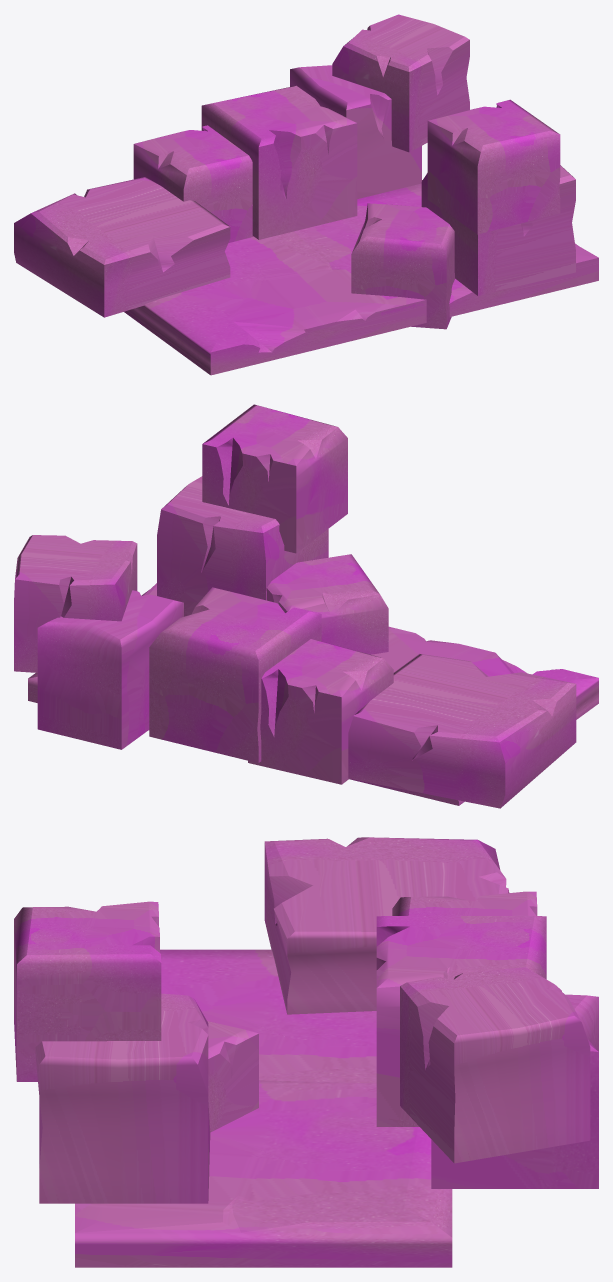
Rendered from BoxFBX.fbx.
The picture shows the model from 3 angles, top to bottom: view 1: azimuth 30°, elevation 25°; view 2: azimuth 150°, elevation 25°; view 3: azimuth 270°, elevation 25°; orthographic projection. The views are drawn at different scales.
Parts seen in each view (by area): view 1: pasted__pCube16 (×6), pasted__pCube8 (×3), pasted__pCube22; view 2: pasted__pCube16 (×5), pasted__pCube8 (×3), pasted__pCube22; view 3: pasted__pCube16 (×6), pasted__pCube8 (×3), pasted__pCube22.
Boxes of the visible parts, x1,y1,x2,y2 form: pasted__pCube16 (×6): (124,85,598,375); pasted__pCube8 (×3): (14,14,575,317); pasted__pCube22: (290,65,421,198); pasted__pCube16 (×5): (149,404,598,805); pasted__pCube8 (×3): (14,476,576,808); pasted__pCube22: (37,590,183,749); pasted__pCube16 (×6): (14,891,546,1267); pasted__pCube8 (×3): (35,837,590,1203); pasted__pCube22: (431,994,598,1188).
Bounding box in the file's own units: 19.37 × 7.61 × 14.77.
